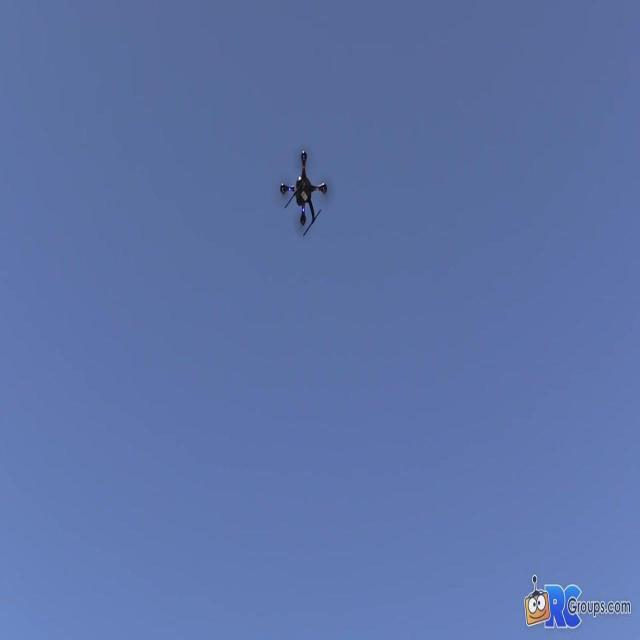drone: (278, 148, 328, 241)
